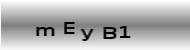1: (117, 25, 131, 39)
B: (101, 26, 118, 40)
E: (62, 20, 76, 35)
m: (34, 25, 56, 37)
y: (80, 28, 94, 42)
